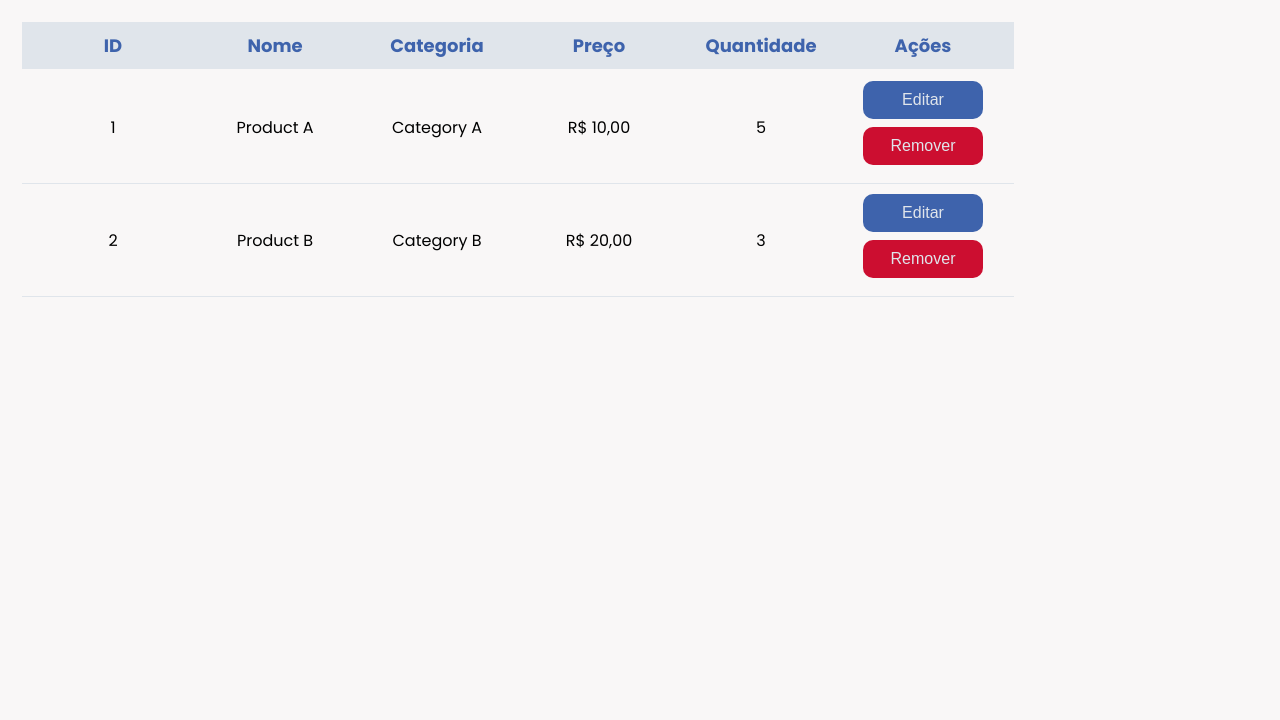
Test: fecha o modal ao clicar em "Não" e não remove o produto
What coordinates should you click on to do the following:
click the button "Remover" in the row of "Product A"
I would click on:
 (923, 146)
Its box is [863, 127, 983, 165].
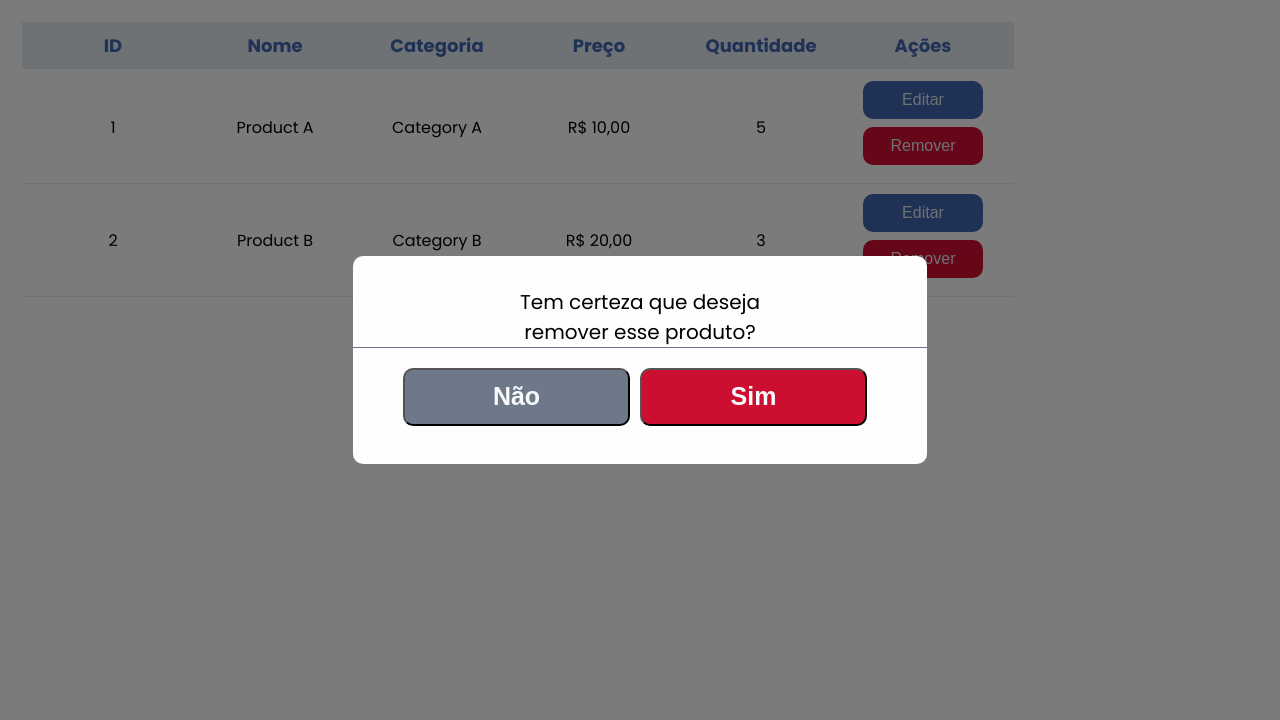
Expected: the text "Tem certeza que deseja remover esse produto?" is shown, [520, 286, 760, 346]
What coordinates should you click on to do the following:
click the button "Não"
I would click on:
 (516, 396)
Its box is [403, 368, 630, 426].
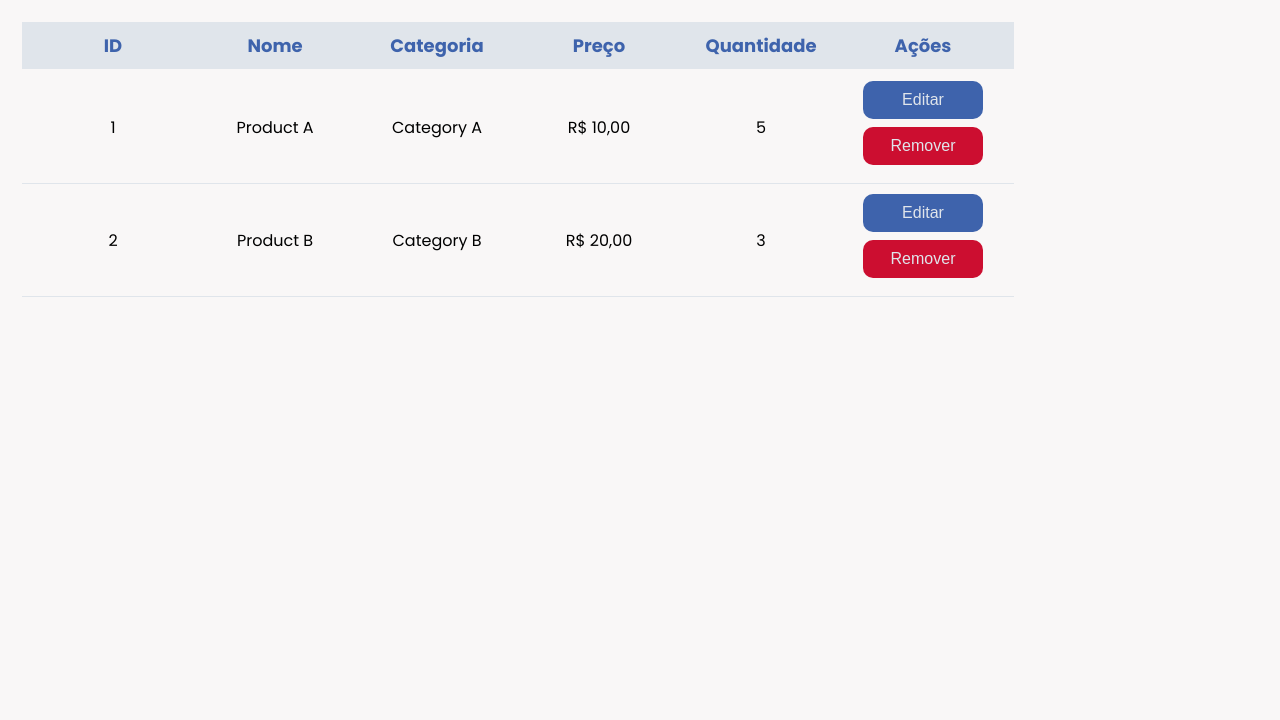
Expected: the text "Tem certeza que deseja remover esse produto?" is gone
